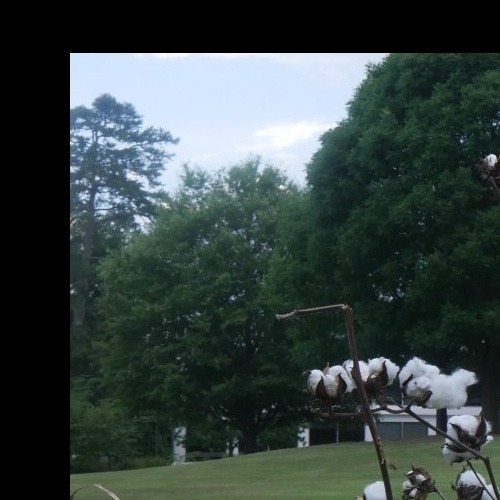mature_boll: (275, 296, 496, 468)
